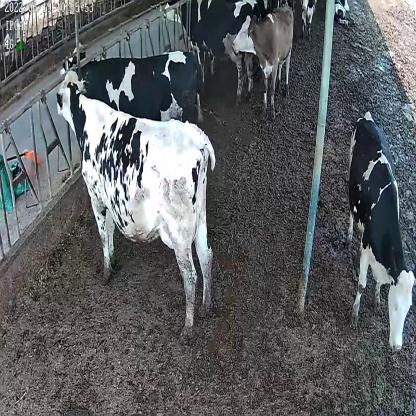cow: (55, 67, 217, 343), (347, 106, 416, 356), (58, 49, 204, 130), (163, 1, 265, 101), (232, 2, 294, 115), (335, 0, 351, 28)
